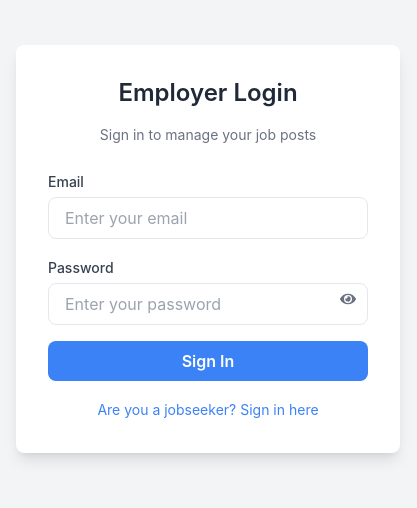
Test: EmployerLogin Component › displays error message when login fails
// Fill in the form
Step 1. Type "employer@example.com" into the field with placeholder "Enter your email" → (208, 218), box x1=48 y1=197 x2=368 y2=239
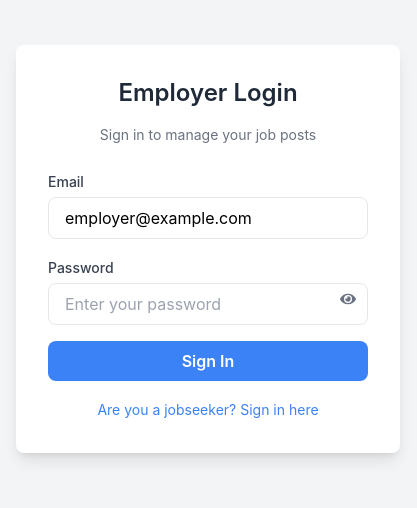
Step 2. Type "WrongPassword" into the password field with placeholder "Enter your password" → (208, 304), box x1=48 y1=283 x2=368 y2=325
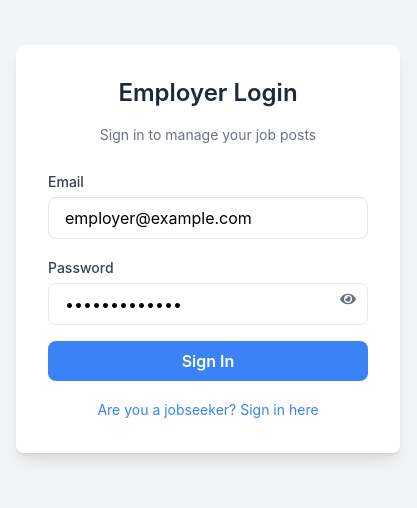
// Submit the form
Step 3. Click the button "Sign In" → click(208, 361), box x1=48 y1=341 x2=368 y2=381
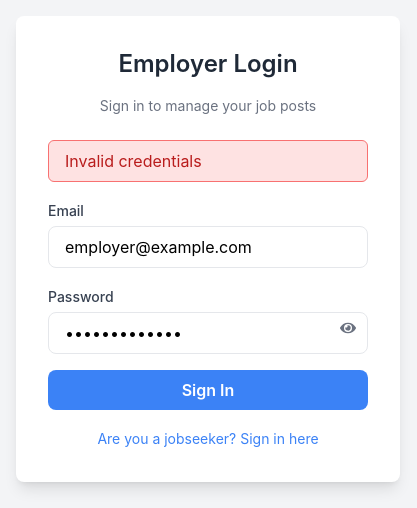
Expected: the text "Invalid credentials" is shown, x1=48 y1=140 x2=368 y2=182
